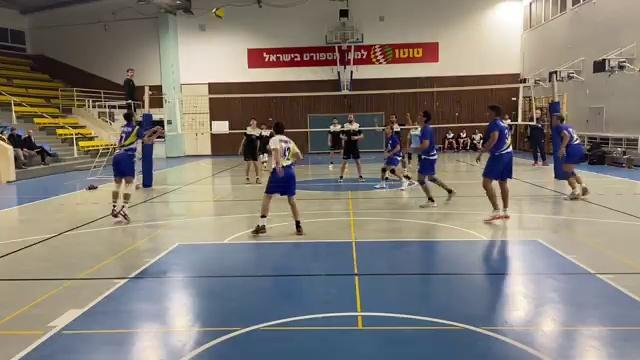ball: (211, 4, 226, 22)
